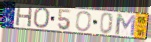0: (99, 12, 115, 36)
5: (57, 8, 72, 31)
H: (14, 5, 34, 28)
M: (115, 13, 137, 38)
O: (32, 6, 51, 29), (75, 11, 93, 33)
